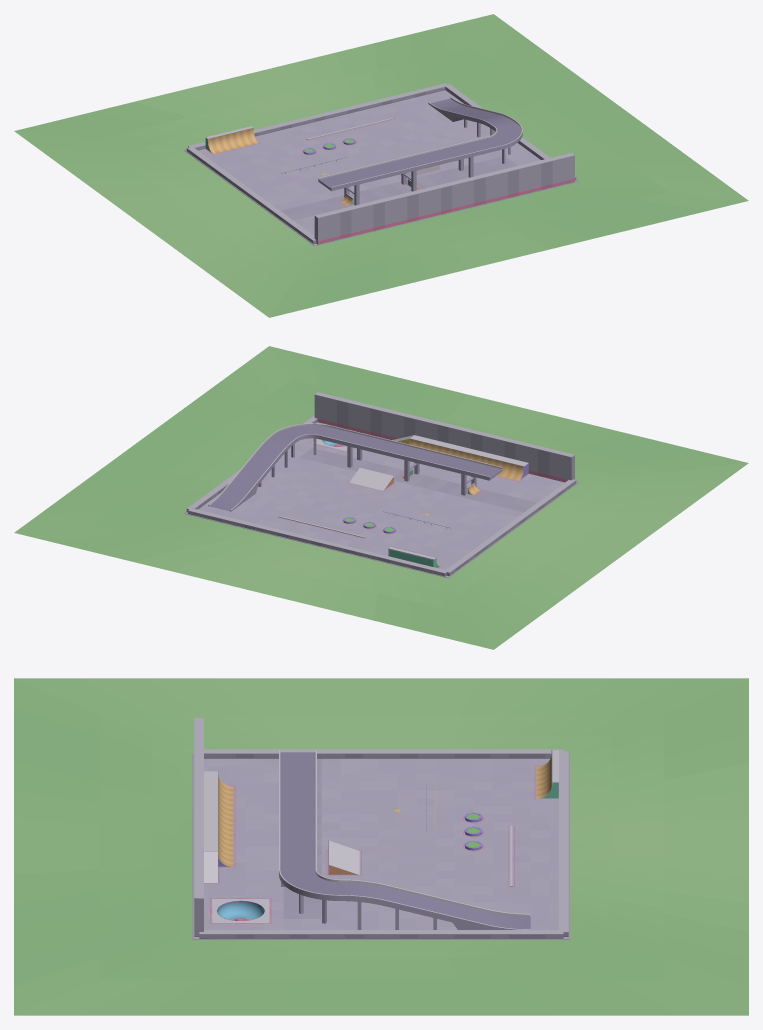
File: bridge.glb
3 renders of one model, top to bottom at view 1: azimuth 30°, elevation 25°; view 2: azimuth 150°, elevation 25°; view 3: azimuth 270°, elevation 25°, orthographic. The views are drawn at different scales.
Visible parts, largest first — view 1: park; view 2: park; view 3: park.
Boxes of the visible parts, x1,y1,x2,y2 form: park: (14, 14, 748, 317); park: (14, 346, 748, 649); park: (14, 678, 748, 1015).
Bounding box in the file's own units: 168 × 11.6 × 155.
